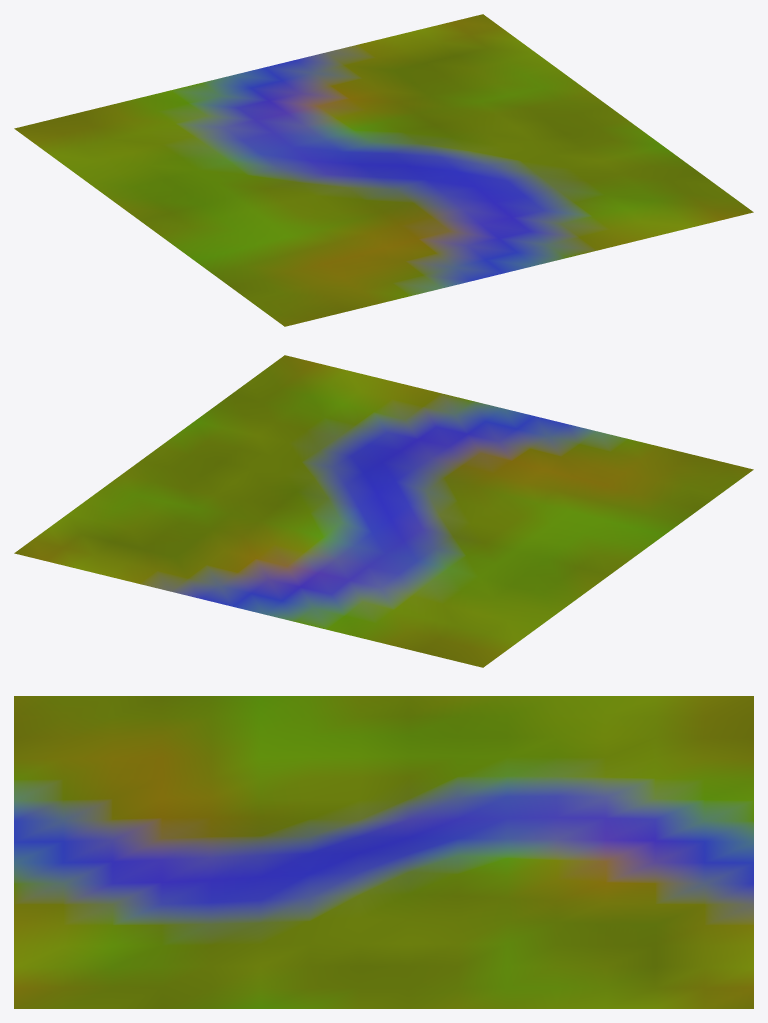
Rendered from terrain_chunk_16m_vertexpaint_lod2.glb.
3 renders of one model, top to bottom at view 1: azimuth 30°, elevation 25°; view 2: azimuth 150°, elevation 25°; view 3: azimuth 270°, elevation 25°, orthographic. The views are drawn at different scales.
Parts seen in each view (by area): view 1: terrain_chunk_16m_vertexpaint_lod2; view 2: terrain_chunk_16m_vertexpaint_lod2; view 3: terrain_chunk_16m_vertexpaint_lod2.
Part boxes in pixels (<box>): terrain_chunk_16m_vertexpaint_lod2: <box>14,14,753,326</box>; terrain_chunk_16m_vertexpaint_lod2: <box>14,355,753,667</box>; terrain_chunk_16m_vertexpaint_lod2: <box>14,696,753,1008</box>.
Size of the model in its own units: 16 by 0.2771 by 16.
